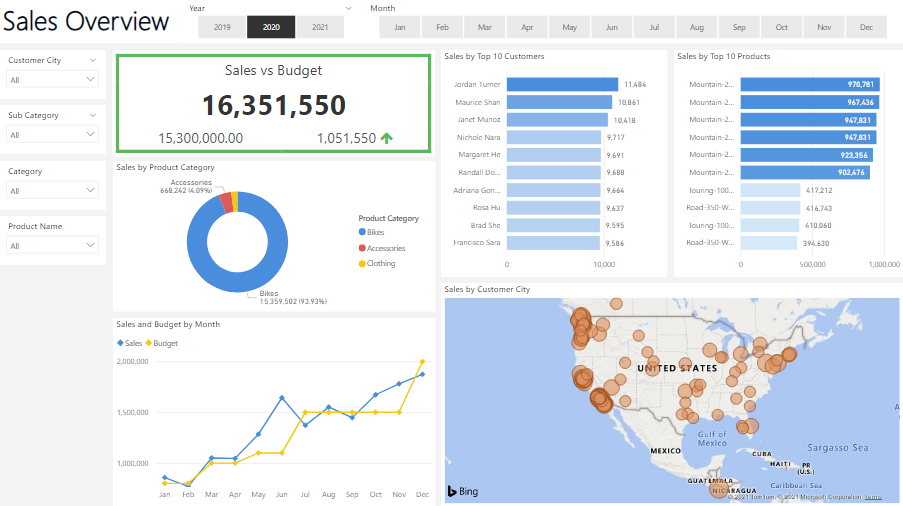

Layout of this report page (visuals, bound fields, positions):
{"tool":"powerbi","page":{"name":"Sales Overview","canvas":[1280,720],"ordinal":0},"visuals":[{"type":"textbox","box":[0,0,1280,64],"z":0},{"type":"slicer","fields":{"Values":["DIM_Calendar.Year"]},"box":[256,0,256,64],"z":1000},{"type":"slicer","fields":{"Values":["DIM_Calendar.MonthShort"]},"box":[512,0,768,64],"z":2000},{"type":"slicer","fields":{"Values":["DIM_Customers.Customer City"]},"box":[0,73,150.5,69.3],"z":3000},{"type":"slicer","fields":{"Values":["DIM_Products.Product Category"]},"box":[0,229.9,150.5,69.3],"z":4000},{"type":"slicer","fields":{"Values":["DIM_Products.Product Name"]},"box":[0,308.4,150.5,69.3],"z":5000},{"type":"slicer","fields":{"Values":["DIM_Products.Sub Category"]},"box":[0,151.4,150.5,69.3],"z":6000},{"type":"barChart","title":"Sales by Top 10 Products","fields":{"Category":["DIM_Products.Product Name"],"Y":["Analysis Metrics.Sales"]},"box":[955.2,73,324.8,321.1],"z":7000},{"type":"lineChart","fields":{"Category":["DIM_Calendar.MonthShort"],"Y":["Analysis Metrics.Sales","Analysis Metrics.Budget"]},"box":[160.7,452.8,456.3,267.2],"z":8000},{"type":"barChart","title":"Sales by Top 10 Customers","fields":{"Category":["DIM_Customers.Full Name"],"Y":["Analysis Metrics.Sales"]},"box":[625.9,73,320.2,321.1],"z":9000},{"type":"donutChart","fields":{"Y":["Analysis Metrics.Sales"],"Series":["DIM_Products.Product Category"]},"box":[160.6,229.9,456.2,213.5],"z":10000},{"type":"map","fields":{"Category":["DIM_Customers.Customer City"],"Size":["Analysis Metrics.Sales"]},"box":[625.9,403.3,654.1,316.6],"z":12000},{"type":"BBED0A4D4D8D44CE93CF2DAFADEE466C","fields":{"actual":["Analysis Metrics.Sales"],"target2":["Analysis Metrics.Sales / Budget"],"target1":["Analysis Metrics.Budget"]},"box":[160.5,73.4,456.6,151.3],"z":13001}]}

Visuals, with their boxes in screenshot pixels (x1, y1, x2, y2), scaled from the page's 1280x720 canvas onto the 903x506 screenshot:
textbox: <region>0, 0, 902, 45</region>
slicer - DIM_Calendar.Year: <region>181, 0, 361, 45</region>
slicer - DIM_Calendar.MonthShort: <region>361, 0, 902, 45</region>
slicer - DIM_Customers.Customer City: <region>0, 51, 106, 100</region>
slicer - DIM_Products.Product Category: <region>0, 162, 106, 210</region>
slicer - DIM_Products.Product Name: <region>0, 217, 106, 265</region>
slicer - DIM_Products.Sub Category: <region>0, 106, 106, 155</region>
"Sales by Top 10 Products" barChart: <region>674, 51, 902, 277</region>
lineChart - DIM_Calendar.MonthShort x Analysis Metrics.Sales: <region>113, 318, 435, 505</region>
"Sales by Top 10 Customers" barChart: <region>442, 51, 667, 277</region>
donutChart - Analysis Metrics.Sales x DIM_Products.Product Category: <region>113, 162, 435, 312</region>
map - DIM_Customers.Customer City x Analysis Metrics.Sales: <region>442, 283, 902, 505</region>
BBED0A4D4D8D44CE93CF2DAFADEE466C - Analysis Metrics.Sales x Analysis Metrics.Sales / Budget: <region>113, 52, 435, 158</region>
